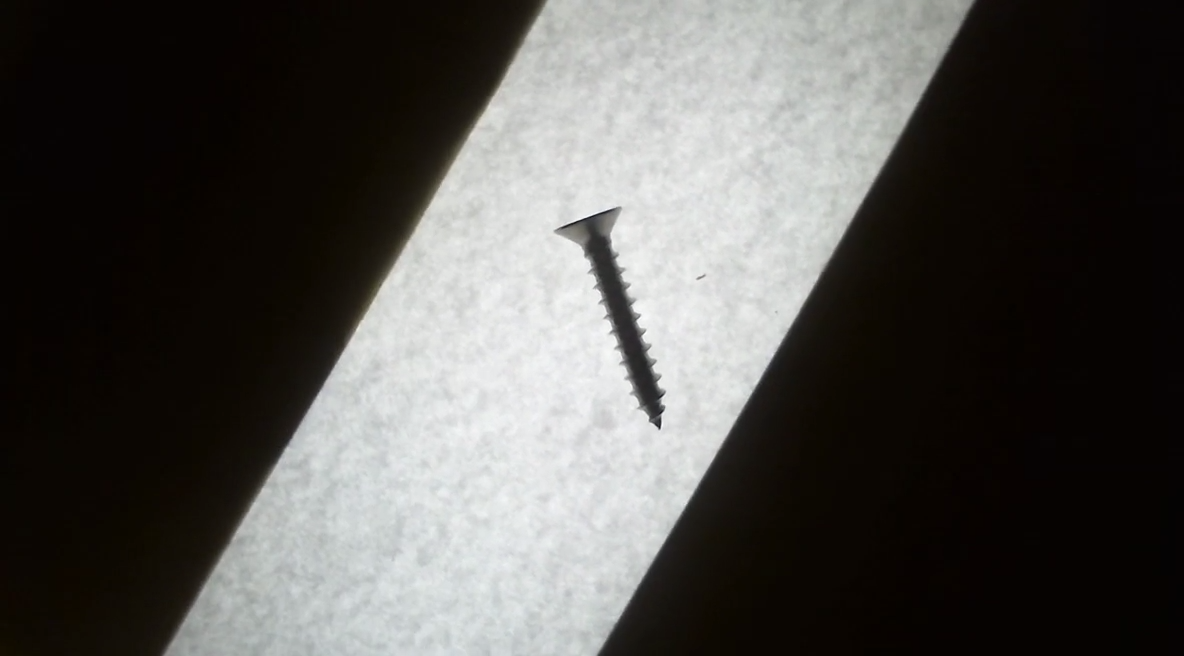S001: (535, 203, 684, 441)
